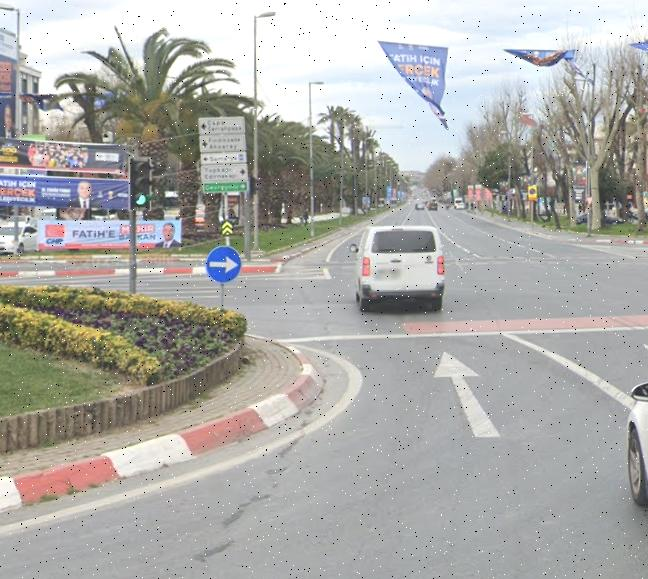greenlight: (131, 157, 150, 211)
turnright: (208, 249, 241, 283)
